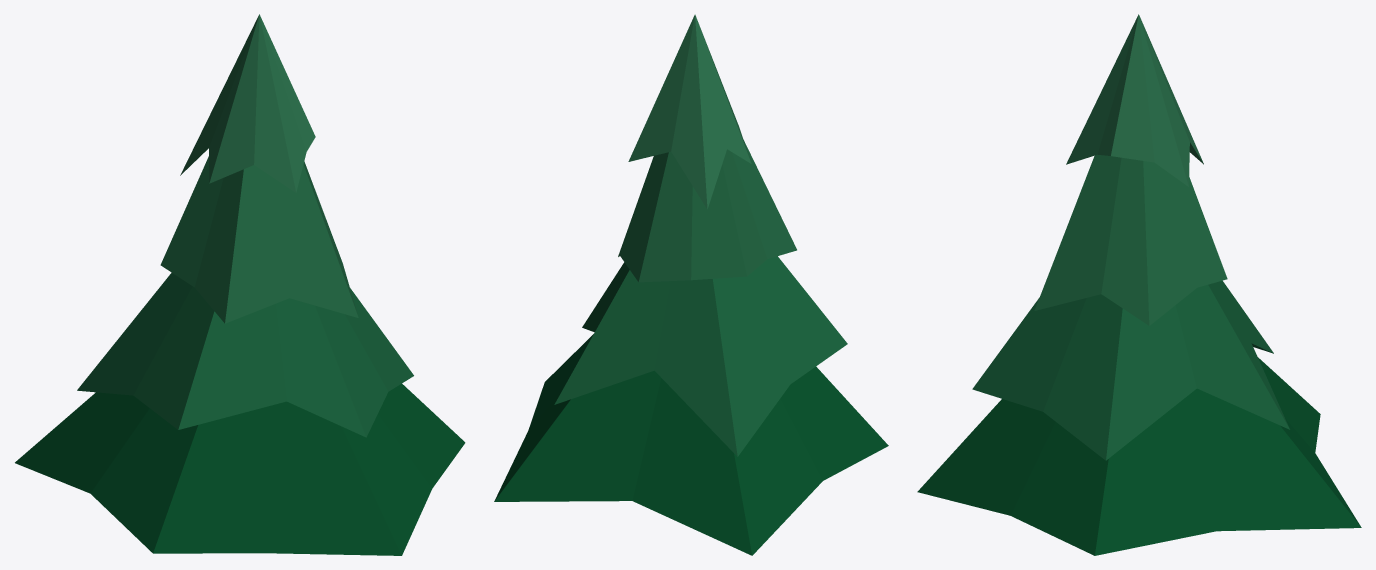
The model's file is Taiga_Tree2.fbx.
3 renders of one model, left to right at view 1: azimuth 30°, elevation 25°; view 2: azimuth 150°, elevation 25°; view 3: azimuth 270°, elevation 25°, orthographic. The views are drawn at different scales.
Parts seen in each view (by area): view 1: Vert.008; view 2: Vert.008; view 3: Vert.008.
Boxes of the visible parts, left/top/right/bottom form: Vert.008: left=15, top=14, right=465, bottom=555; Vert.008: left=494, top=14, right=888, bottom=555; Vert.008: left=917, top=14, right=1361, bottom=555.
Bounding box in the file's own units: 387 × 536 × 440.
